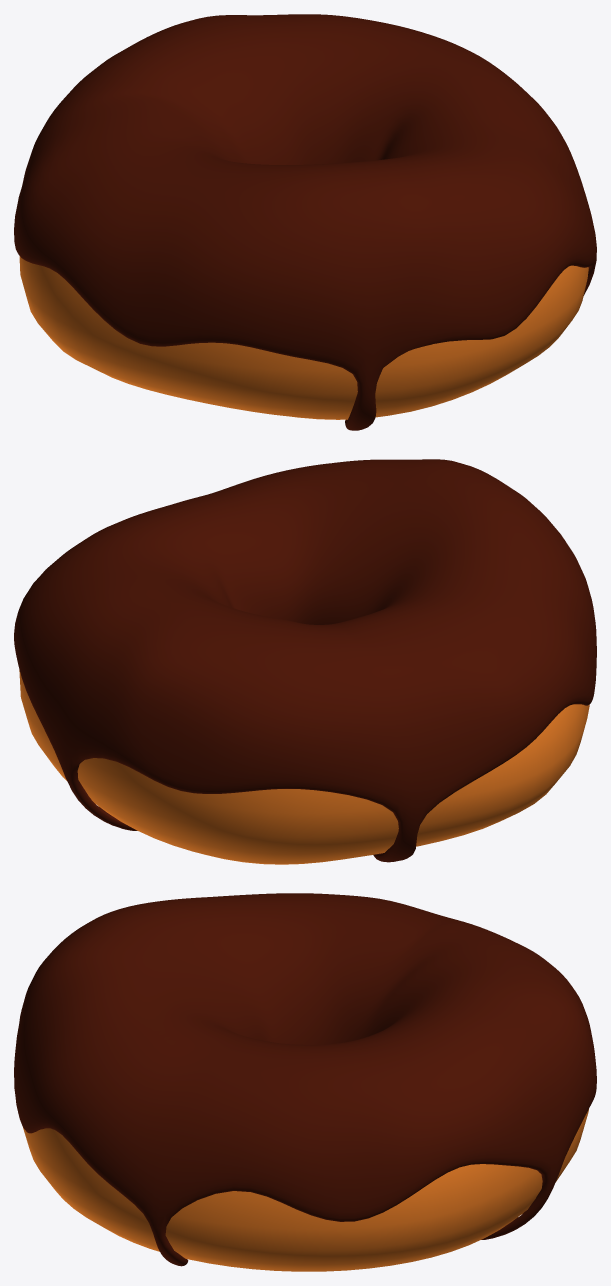
Rendered from dunot.obj.
3 renders of one model, top to bottom at view 1: azimuth 30°, elevation 25°; view 2: azimuth 150°, elevation 25°; view 3: azimuth 270°, elevation 25°, orthographic. The views are drawn at different scales.
Visible parts, largest first — view 1: icing, dounut; view 2: icing, dounut; view 3: icing, dounut.
Part boxes in pixels (box(x1,y1,x2,y2)): icing: box(14, 14, 596, 430); dounut: box(19, 256, 588, 419); icing: box(14, 459, 596, 862); dounut: box(19, 669, 589, 864); icing: box(14, 893, 596, 1266); dounut: box(23, 1109, 588, 1271).
Bounding box in the file's own units: 1.5 × 0.712 × 1.54.
